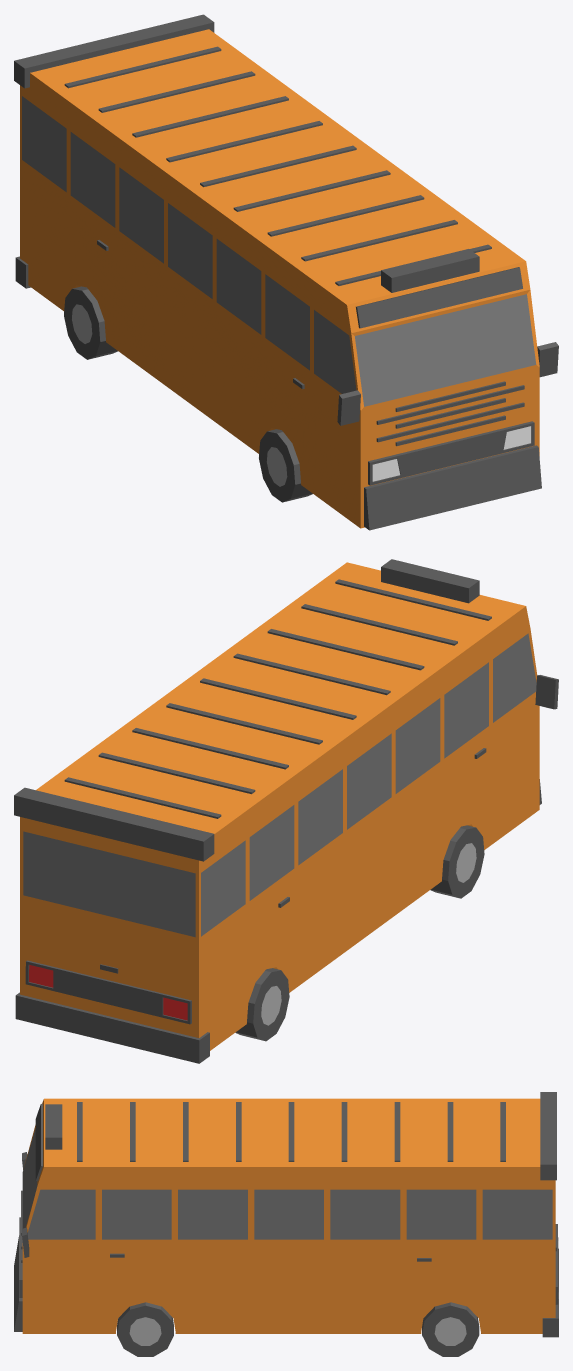
File: SM_Bus_01_02.FBX
3 renders of one model, top to bottom at view 1: azimuth 30°, elevation 25°; view 2: azimuth 150°, elevation 25°; view 3: azimuth 270°, elevation 25°, orthographic. The views are drawn at different scales.
Parts seen in each view (by area): view 1: SM_Bus_01_01, SM_Wheel_LFront001, SM_Wheel_RBack001; view 2: SM_Bus_01_01, SM_Wheel_RBack001, SM_Wheel_LFront001; view 3: SM_Bus_01_01, SM_Wheel_LBack001, SM_Wheel_LFront002.
Part boxes in pixels (bbox=[...]): SM_Bus_01_01: bbox=[14, 14, 558, 530]; SM_Wheel_LFront001: bbox=[259, 429, 312, 502]; SM_Wheel_RBack001: bbox=[64, 286, 117, 359]; SM_Bus_01_01: bbox=[14, 559, 558, 1063]; SM_Wheel_RBack001: bbox=[235, 968, 289, 1041]; SM_Wheel_LFront001: bbox=[430, 825, 484, 898]; SM_Bus_01_01: bbox=[14, 1092, 558, 1337]; SM_Wheel_LBack001: bbox=[422, 1302, 479, 1356]; SM_Wheel_LFront002: bbox=[117, 1302, 173, 1356].
Bounding box in the file's own units: 1.7 × 1.91 × 4.73.
1 material, 1 textured.
